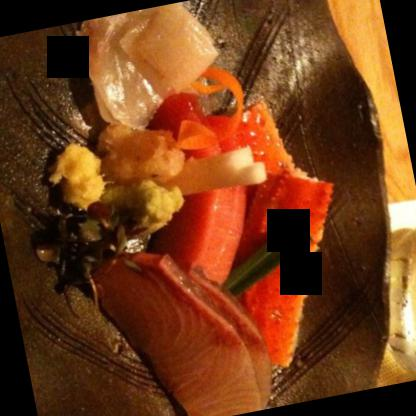salmon: (98, 235, 274, 415), (140, 82, 272, 286)
